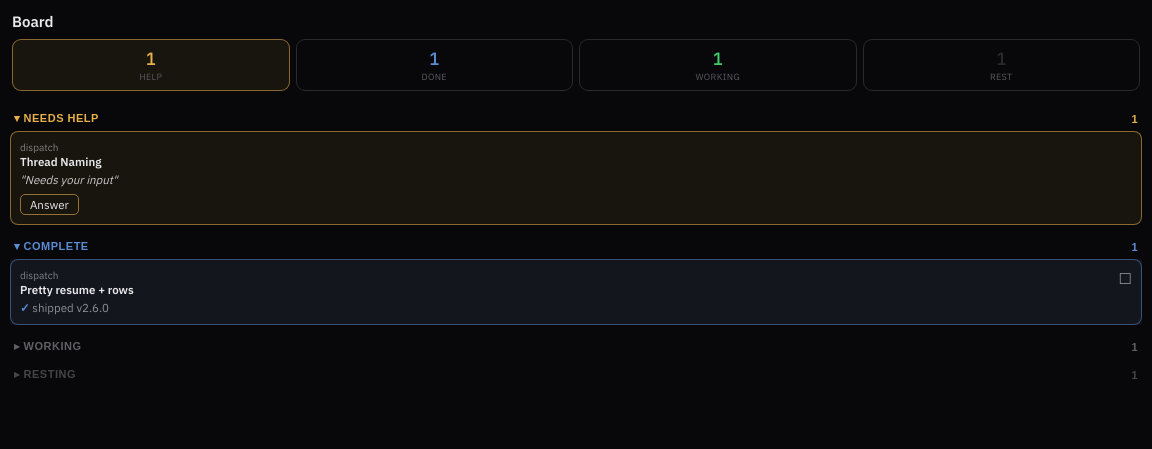
Scenario: BoardMobile — tapping a header toggles expansion › tapping the collapsed Resting header expands it, revealing the grouped rollup (not its card)
What coordinates should you click on to do the following:
click the button with test id "board-section-toggle-resting"
I would click on:
 (50, 374)
Its box is [10,359,1142,387].
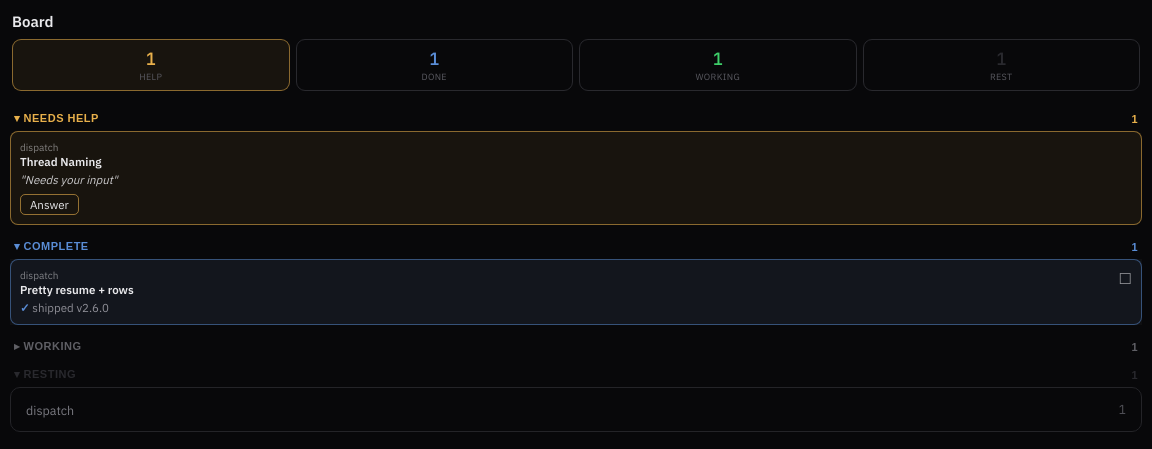
Result: the 3rd text "dispatch" is shown at [26,402,74,418]
